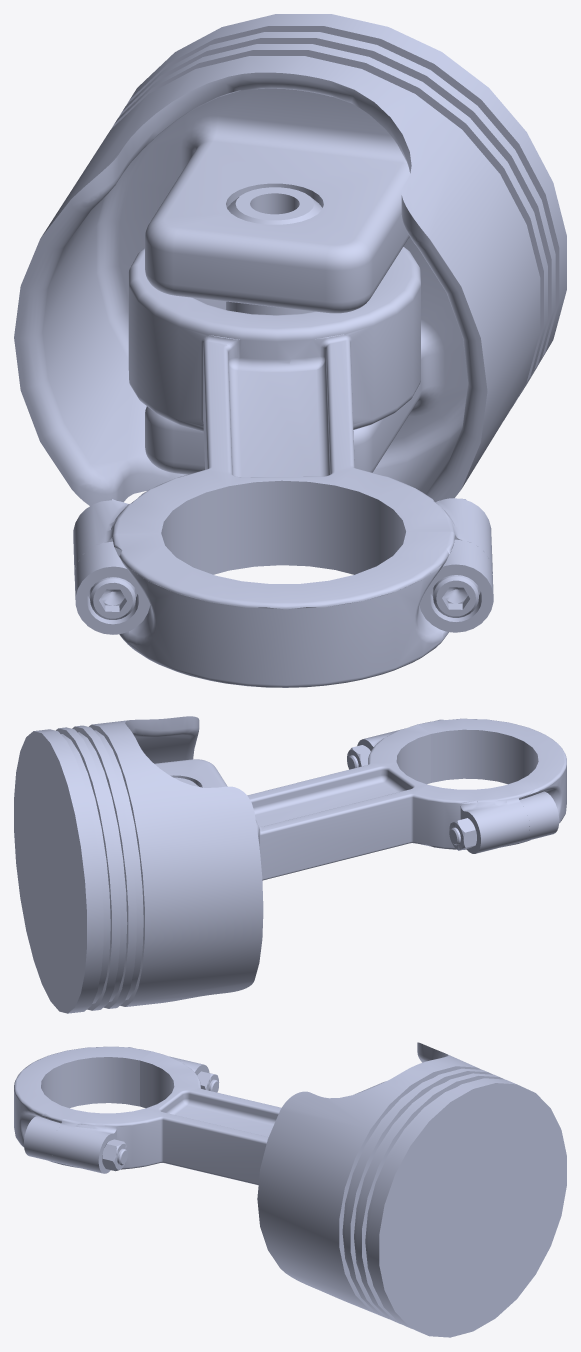
The model's file is ass_pist_f.001.fbx.
The picture shows the model from 3 angles, top to bottom: view 1: azimuth 30°, elevation 25°; view 2: azimuth 150°, elevation 25°; view 3: azimuth 270°, elevation 25°; orthographic projection. The views are drawn at different scales.
Parts seen in each view (by area): view 1: EM_A2; view 2: EM_A2; view 3: EM_A2.
Boxes of the visible parts, <box> form: EM_A2: <box>14,14,566,687</box>; EM_A2: <box>14,716,566,1013</box>; EM_A2: <box>14,1042,566,1337</box>.
Bounding box in the file's own units: 21.39 × 12.7 × 26.25.
